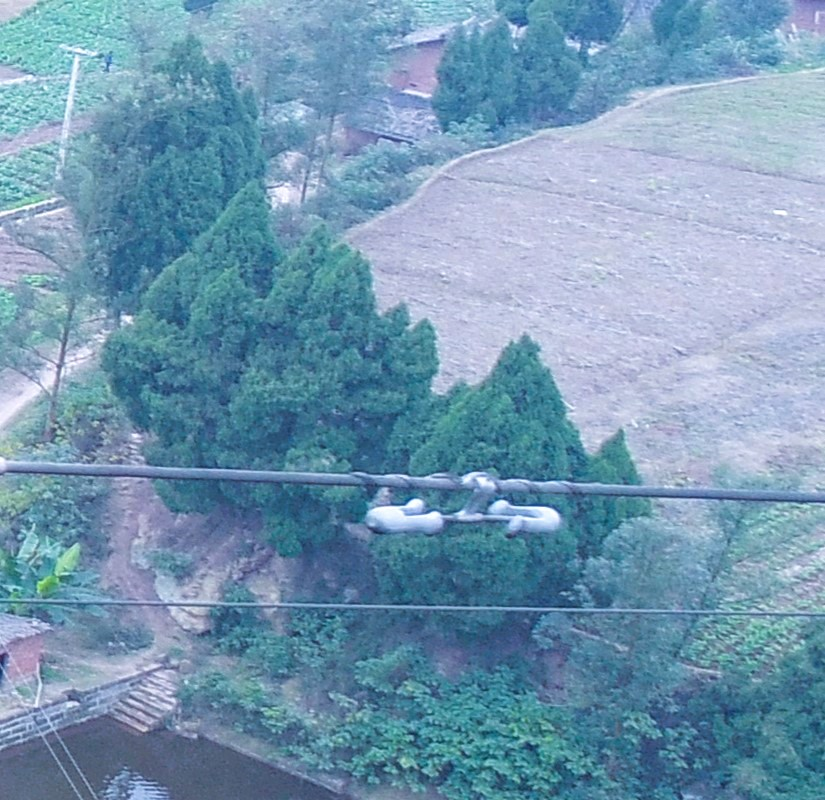Shockproof hammer: (349, 460, 574, 541)
